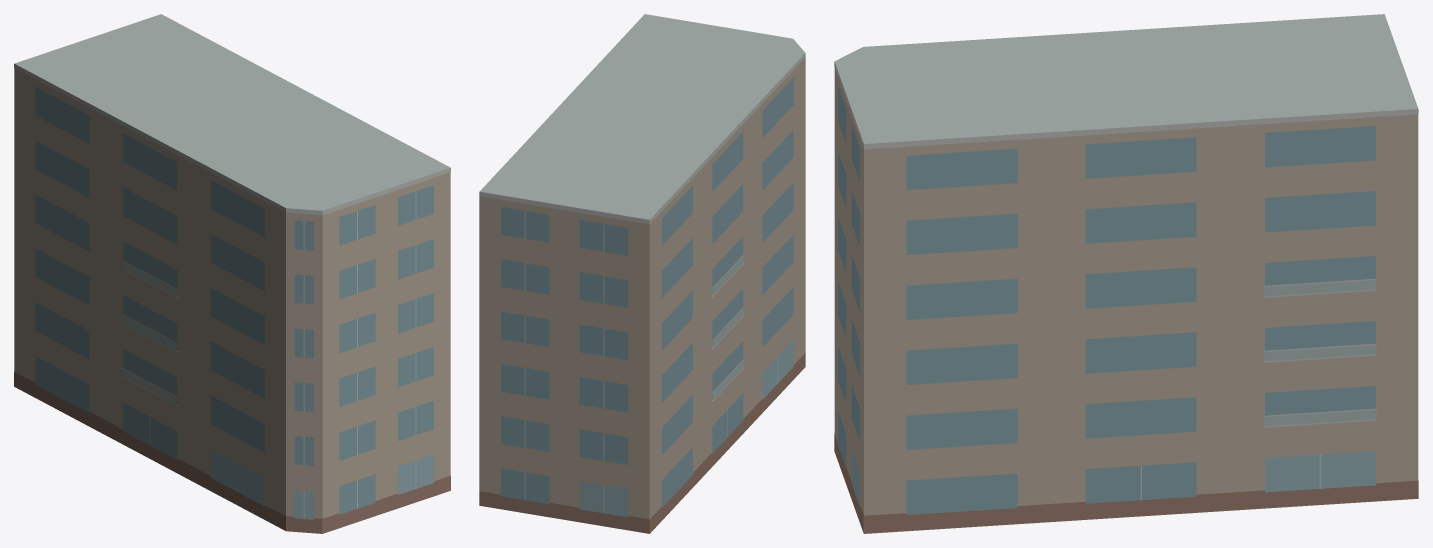
File: survey-upis-33029413.glb
The picture shows the model from 3 angles, left to right: view 1: azimuth 30°, elevation 25°; view 2: azimuth 150°, elevation 25°; view 3: azimuth 270°, elevation 25°; orthographic projection. The views are drawn at different scales.
Visible parts, largest first — view 1: survey-upis-33029413.tmp; view 2: survey-upis-33029413.tmp; view 3: survey-upis-33029413.tmp.
Boxes of the visible parts, left/top/right/bottom form: survey-upis-33029413.tmp: left=14, top=14, right=450, bottom=533; survey-upis-33029413.tmp: left=479, top=14, right=805, bottom=533; survey-upis-33029413.tmp: left=834, top=14, right=1418, bottom=533.
Bounding box in the file's own units: 12.38 × 17.3 × 23.5.
